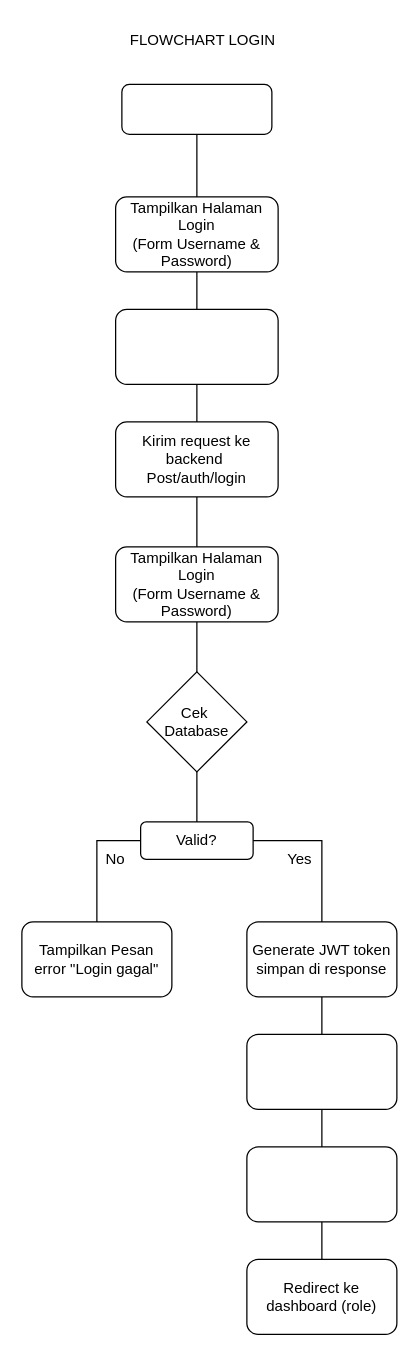
Some shapes in this 419 by 1356 pixel diagram are drawn without their labels. Here are the shapes that lost their labels. From the top down, the box of each, then its label:
(121, 83, 272, 134): Mulai
(114, 308, 278, 384): User isi Username & Password Klik Tombol Login
(246, 1033, 397, 1109): Kirim Respons ke frontend (token + role)
(246, 1146, 397, 1222): Frontend: Simpan token di local
